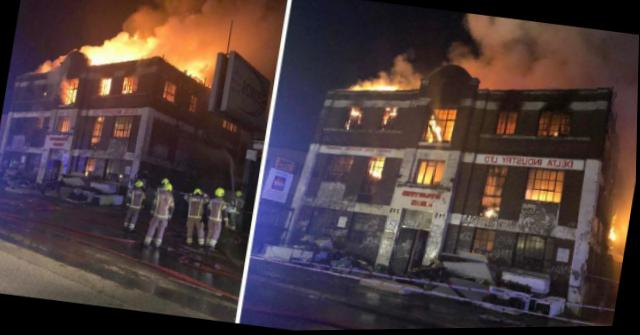fire: (81, 30, 151, 60), (425, 114, 451, 149), (352, 77, 400, 94), (366, 156, 391, 182), (186, 59, 207, 80), (607, 220, 622, 249), (66, 84, 84, 105), (98, 77, 115, 98), (532, 193, 552, 209), (346, 108, 371, 120), (122, 77, 137, 96)
smoke: (479, 18, 639, 116), (157, 0, 296, 72), (599, 110, 637, 223), (448, 12, 485, 75), (118, 0, 167, 37), (35, 45, 71, 78), (490, 110, 519, 141), (400, 56, 424, 88)
